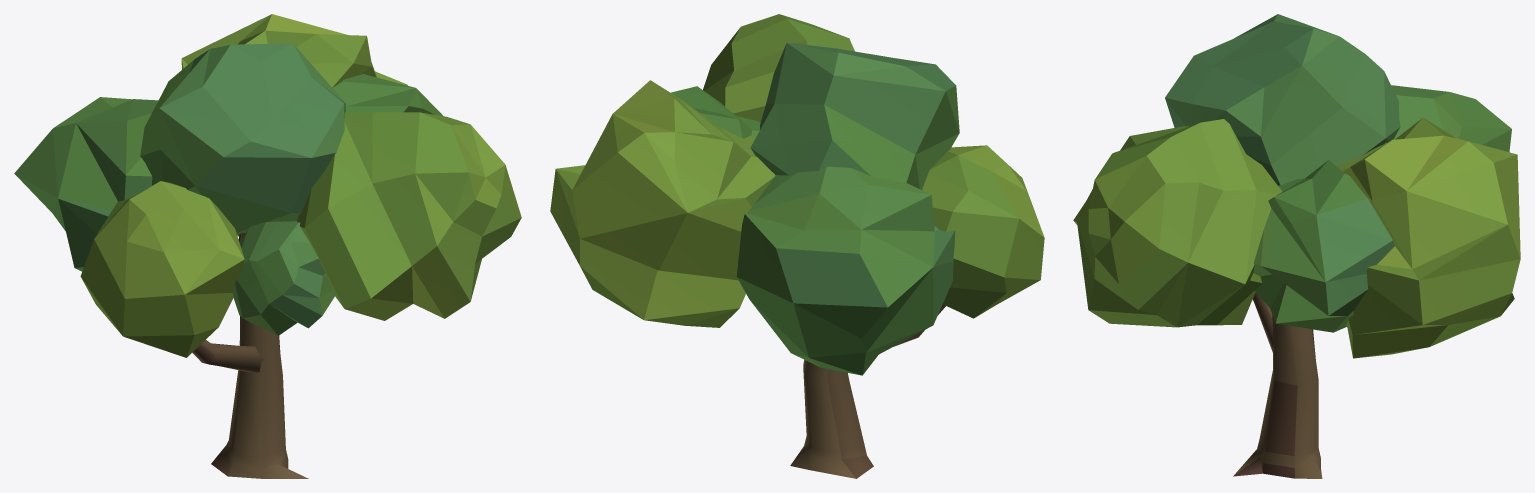
The model's file is tree geo.fbx.
3 renders of one model, left to right at view 1: azimuth 30°, elevation 25°; view 2: azimuth 150°, elevation 25°; view 3: azimuth 270°, elevation 25°, orthographic. The views are drawn at different scales.
Parts seen in each view (by area): view 1: polySurface4, polySurface6, polySurface8, polySurface10, polySurface5, trunk, polySurface11, polySurface9, polySurface2; view 2: polySurface11, polySurface10, polySurface6, polySurface8, polySurface4, trunk, polySurface9; view 3: polySurface4, polySurface11, polySurface6, polySurface9, trunk, polySurface10, polySurface2.
Part boxes in pixels (<box>): polySurface4: <box>297,112,521,320</box>; polySurface6: <box>140,43,345,234</box>; polySurface8: <box>80,181,244,357</box>; polySurface10: <box>14,97,158,271</box>; polySurface5: <box>232,221,335,335</box>; trunk: <box>211,233,308,478</box>; polySurface11: <box>181,14,407,236</box>; polySurface9: <box>333,74,443,116</box>; polySurface2: <box>192,340,263,372</box>; polySurface11: <box>550,80,775,327</box>; polySurface10: <box>736,166,955,375</box>; polySurface6: <box>750,42,959,189</box>; polySurface8: <box>922,145,1044,318</box>; polySurface4: <box>703,14,854,122</box>; trunk: <box>790,360,873,478</box>; polySurface9: <box>671,86,760,138</box>; polySurface4: <box>1073,119,1282,327</box>; polySurface11: <box>1336,117,1520,358</box>; polySurface6: <box>1165,14,1400,185</box>; polySurface9: <box>1253,160,1394,332</box>; trunk: <box>1233,315,1322,478</box>; polySurface10: <box>1391,85,1511,152</box>; polySurface2: <box>1252,292,1273,352</box>.
Bounding box in the file's own units: 388 × 396 × 375.
